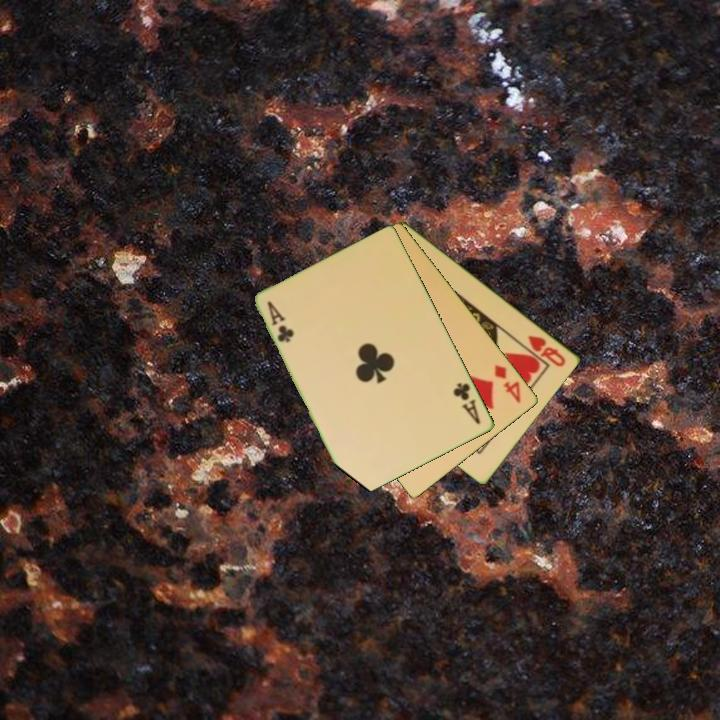4d: (491, 361, 524, 406)
Ac: (450, 379, 484, 428), (264, 297, 297, 345)
Qh: (525, 332, 569, 370)
